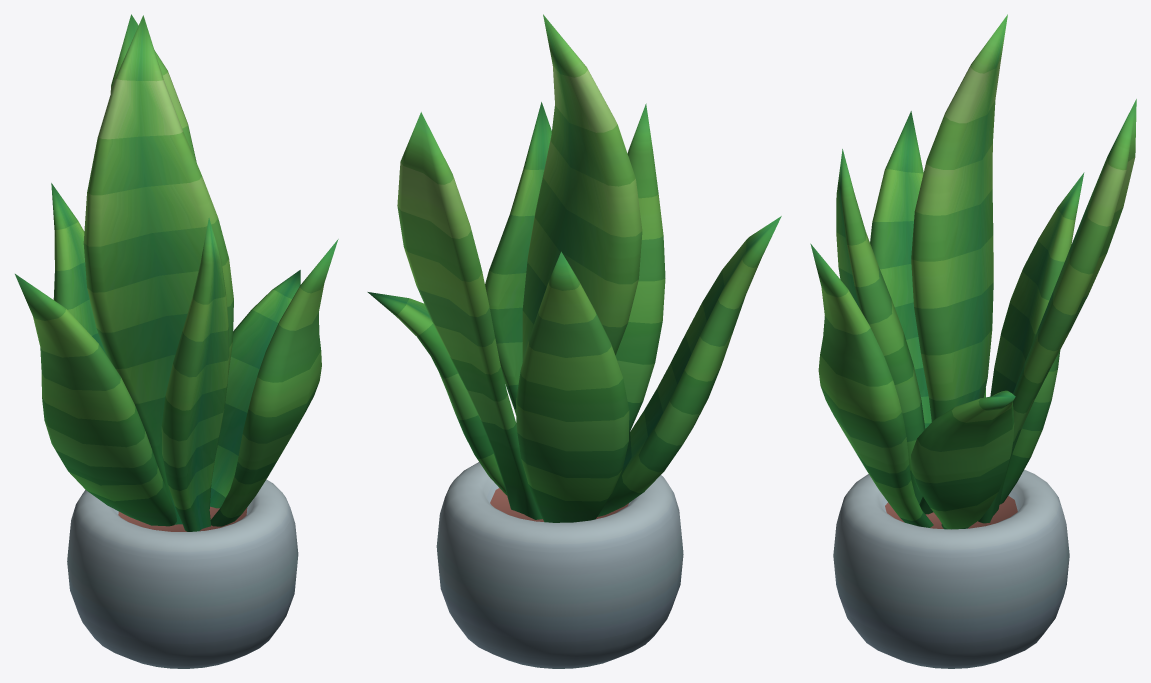
Rendered from Plants_13.glb.
3 renders of one model, left to right at view 1: azimuth 30°, elevation 25°; view 2: azimuth 150°, elevation 25°; view 3: azimuth 270°, elevation 25°, orthographic. The views are drawn at different scales.
Visible parts, largest first — view 1: Plants_13; view 2: Plants_13; view 3: Plants_13.
Boxes of the visible parts, x1,y1,x2,y2 form: Plants_13: (15,14,338,668); Plants_13: (367,14,781,668); Plants_13: (810,14,1136,668).
Size of the model in its own units: 0.5296 by 0.9169 by 0.4351.
Materials: 1 (1 with a texture image).
